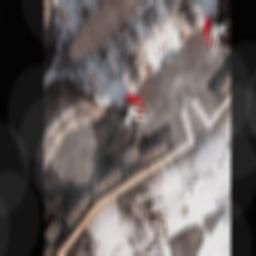Woodpecker: (78, 79, 160, 188)
